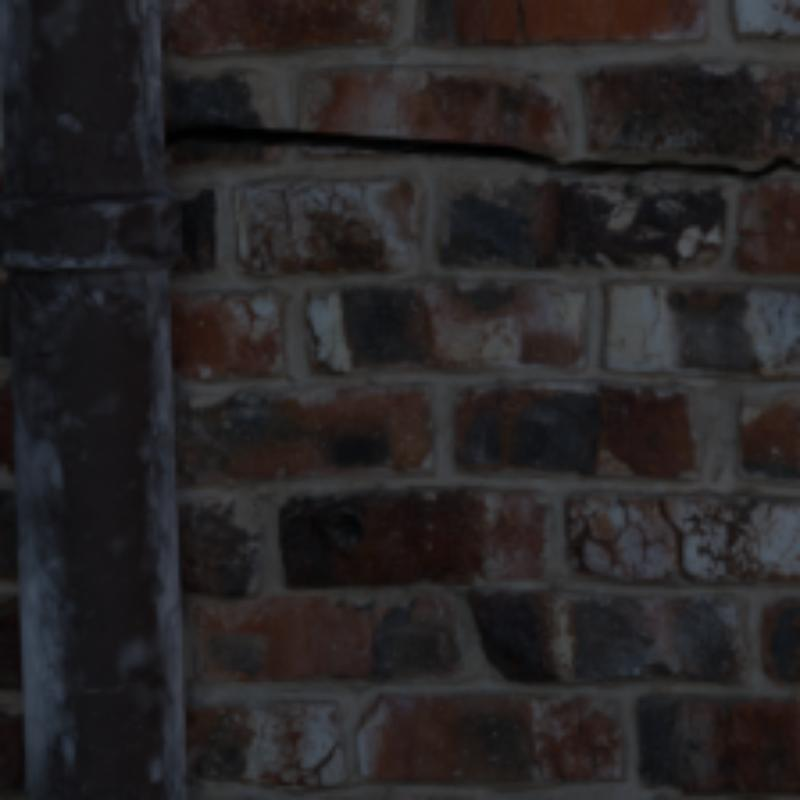pothole: (164, 125, 796, 179), (661, 500, 696, 579), (307, 746, 339, 779), (518, 0, 529, 36)
